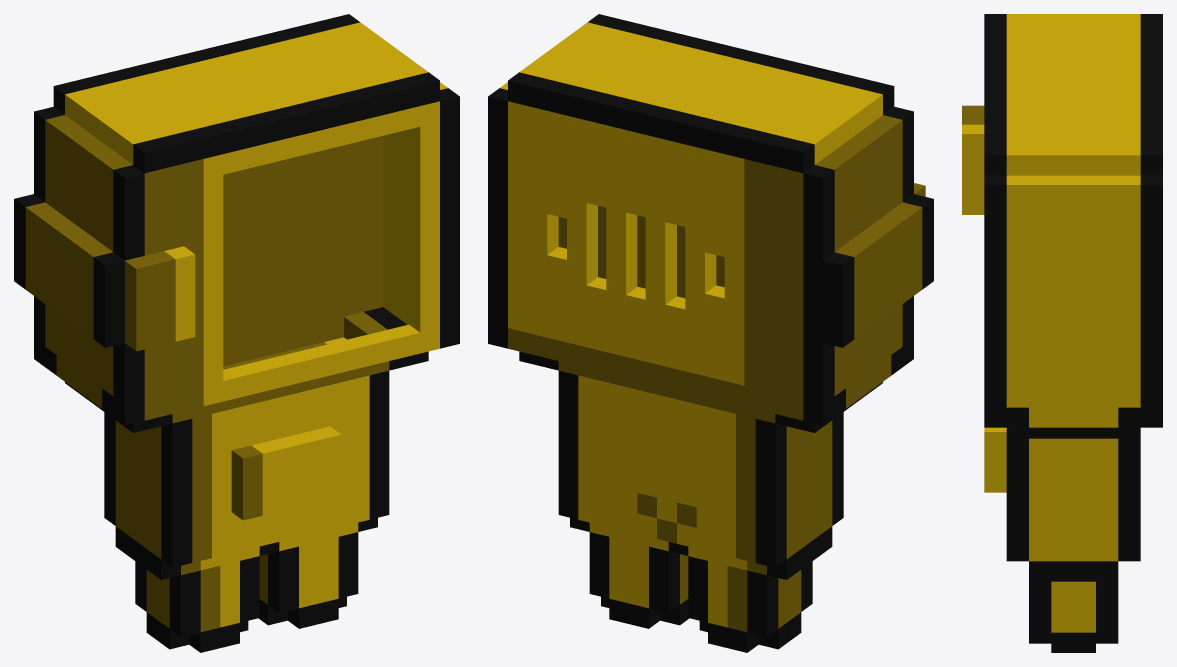
File: body_gold.glb
The picture shows the model from 3 angles, left to right: view 1: azimuth 30°, elevation 25°; view 2: azimuth 150°, elevation 25°; view 3: azimuth 270°, elevation 25°; orthographic projection.
Visible parts, largest first — view 1: bb0 body; view 2: bb0 body; view 3: bb0 body.
Boxes of the visible parts, x1=… form: bb0 body: x1=14, y1=14, x2=459, y2=652; bb0 body: x1=488, y1=14, x2=933, y2=652; bb0 body: x1=962, y1=14, x2=1162, y2=652.
Size of the model in its own units: 18 by 26 by 9.
